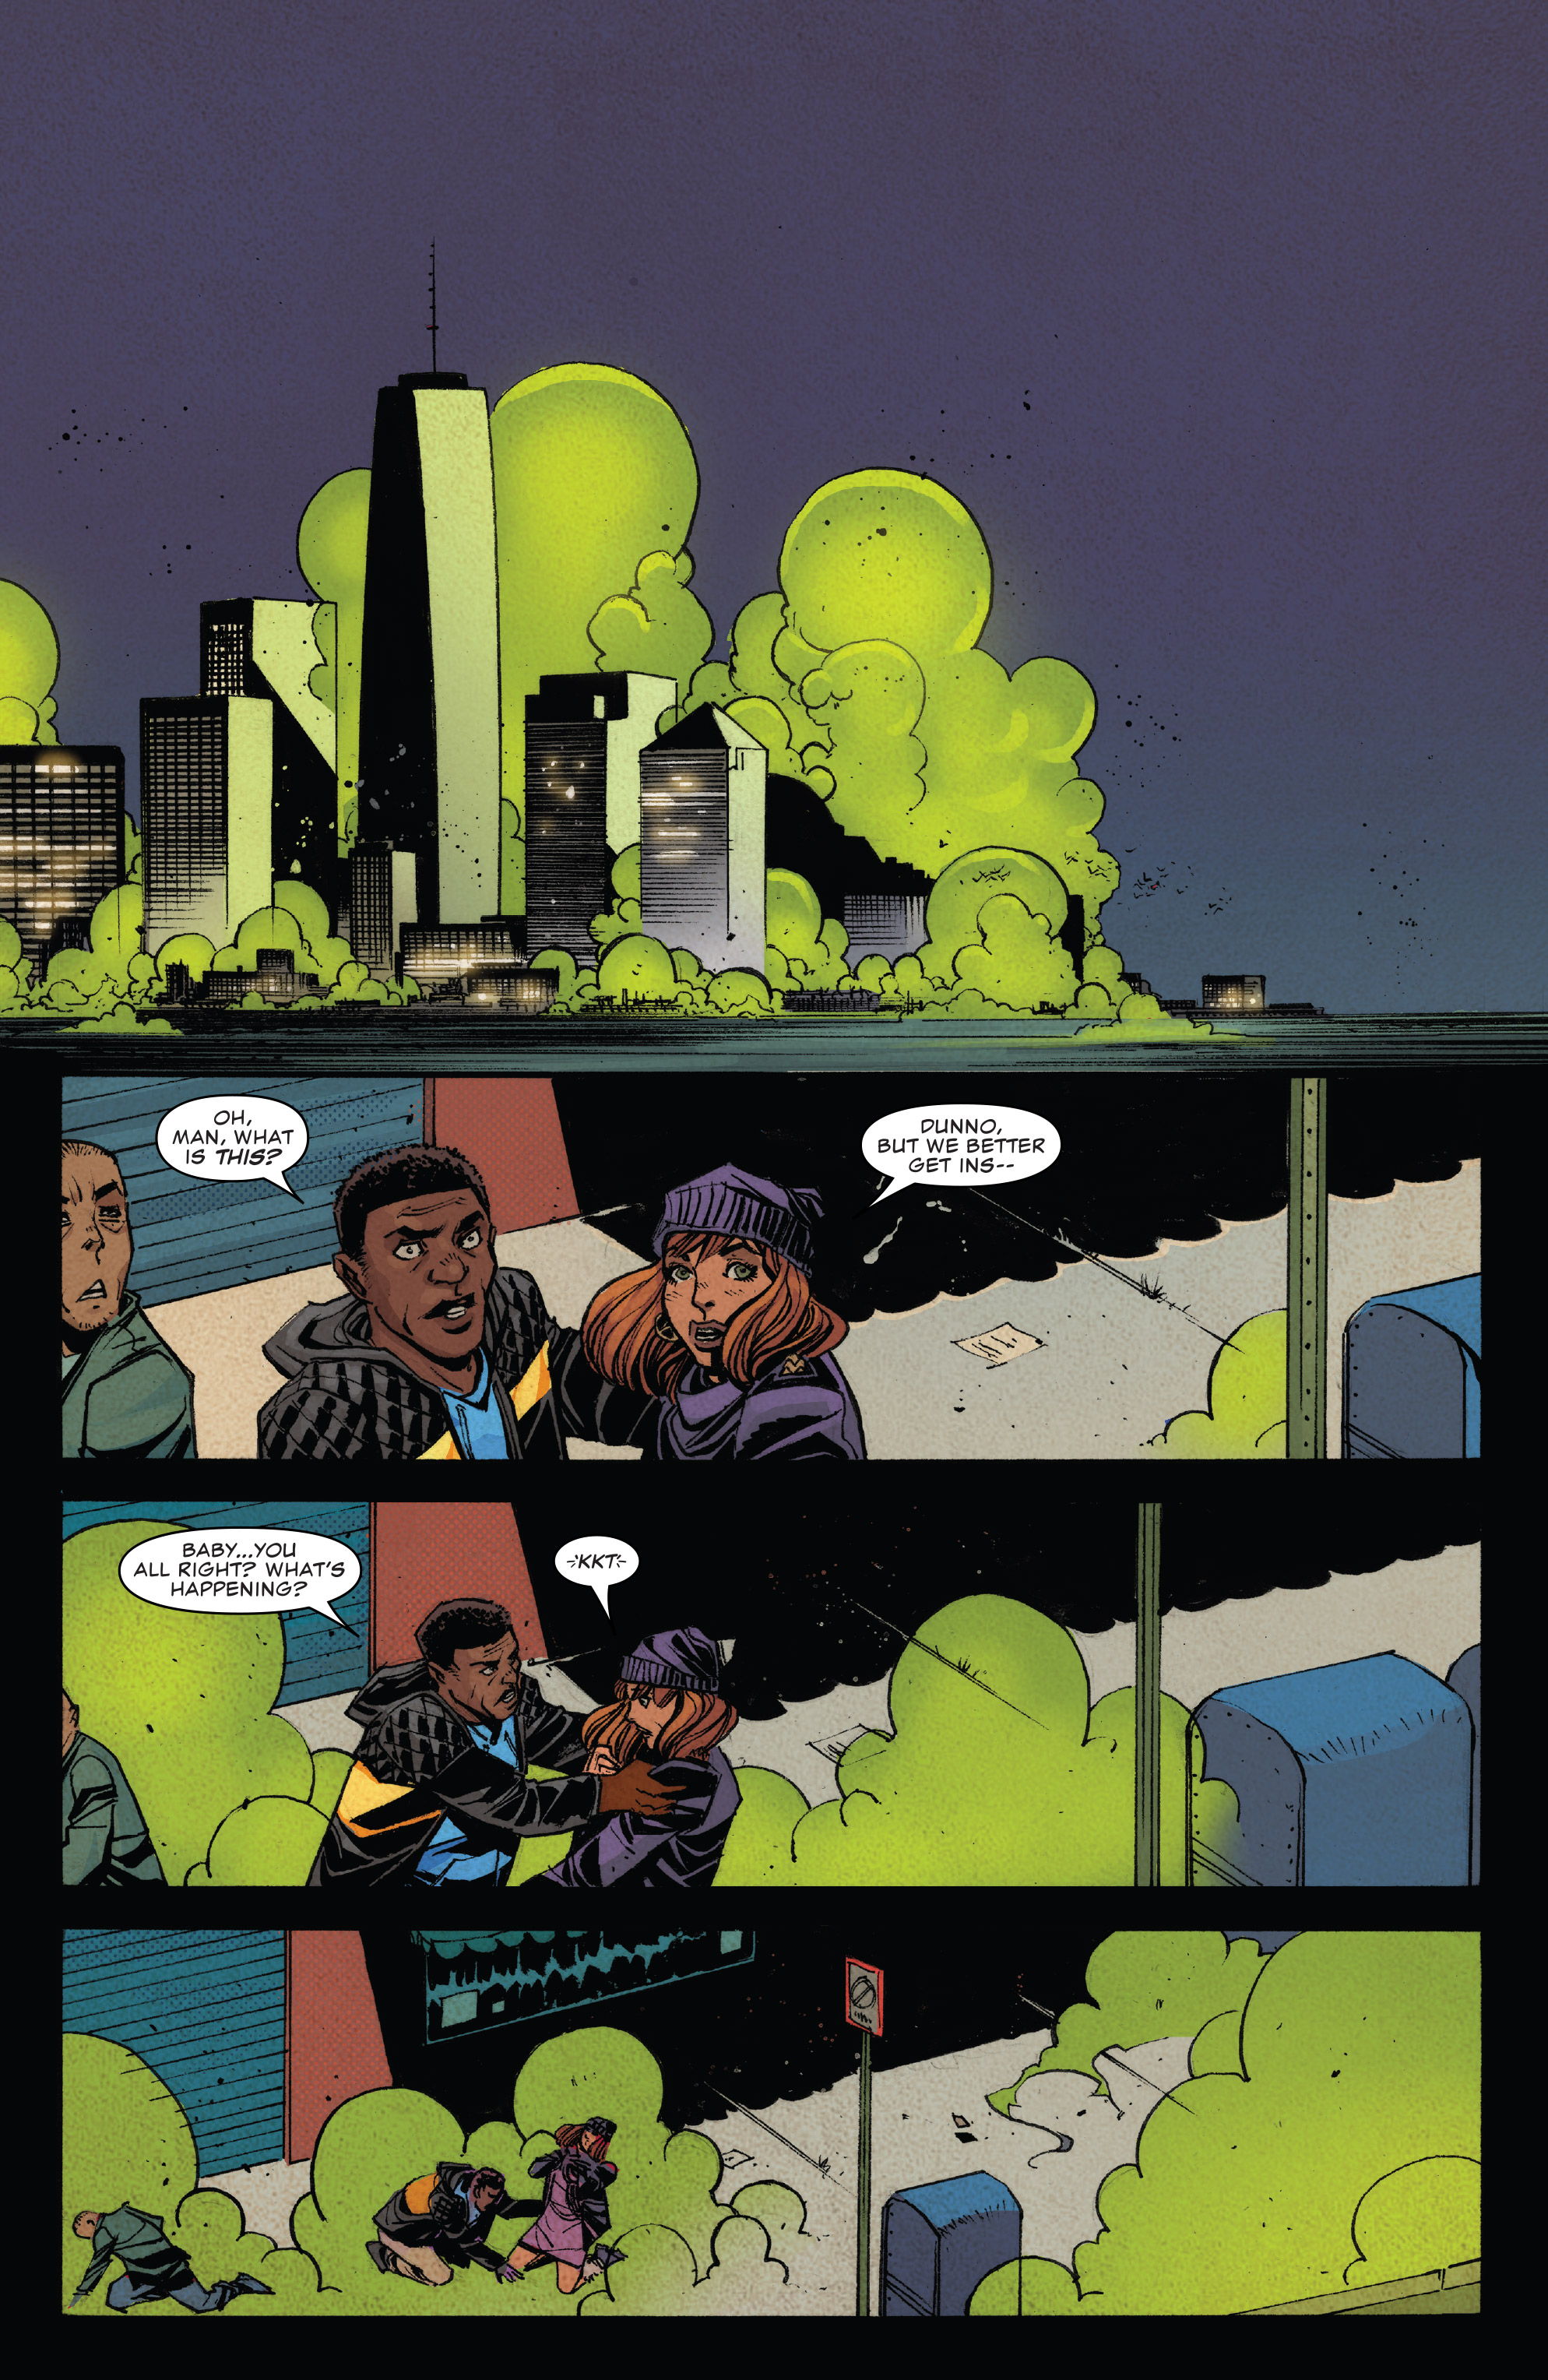Baloon: (113, 1530, 367, 1631), (846, 1107, 1057, 1213), (146, 1093, 309, 1197), (556, 1530, 638, 1612)
Vignetta: (0, 0, 1546, 1056), (55, 1070, 1487, 1464), (68, 1913, 1480, 2312), (71, 1497, 1480, 1884)
